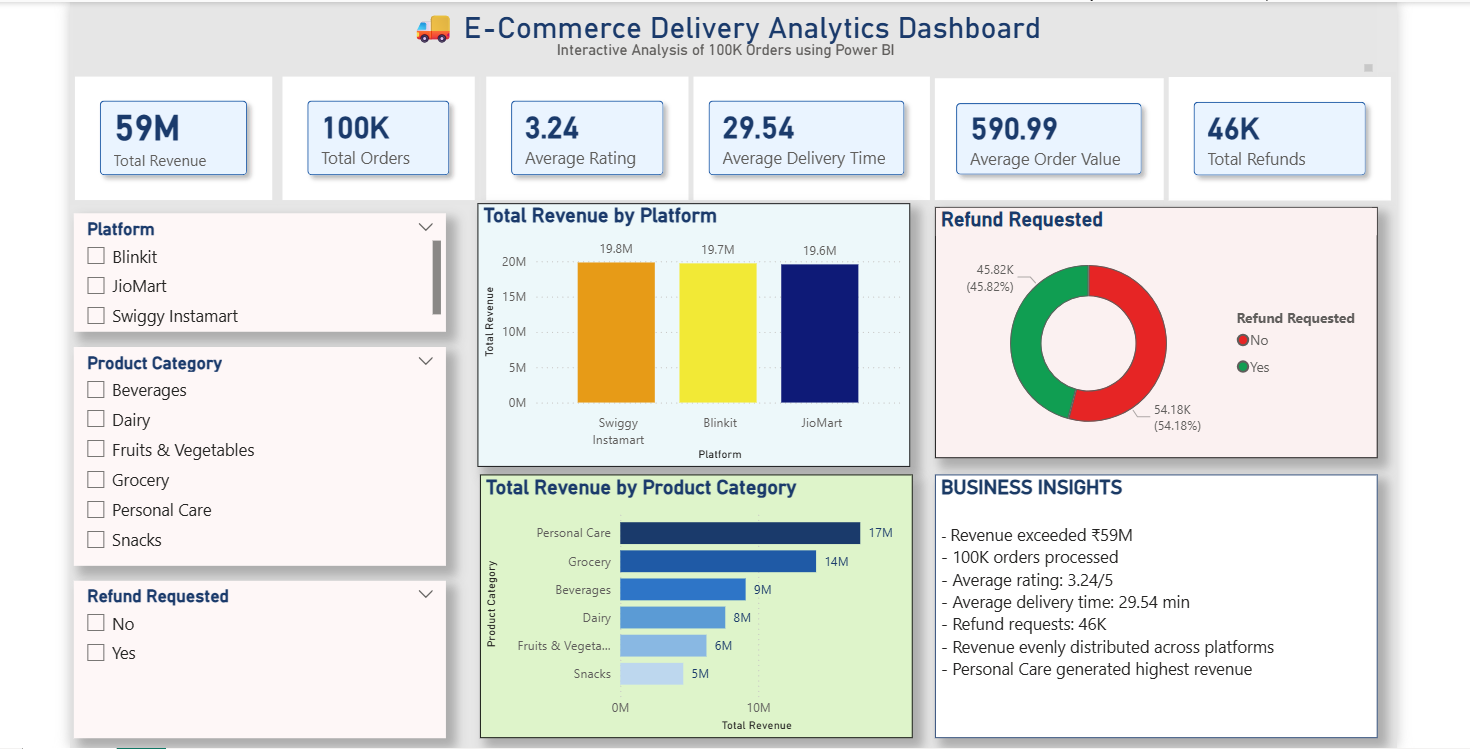

The page's visual inventory and layout, read from the dashboard file:
{"tool":"powerbi","page":{"name":"Page 1","canvas":[1280,720],"ordinal":0},"visuals":[{"type":"cardVisual","fields":{"Data":["Table1.Total Revenue"]},"box":[0,66.4,200.3,130.3],"z":0},{"type":"cardVisual","fields":{"Data":["Table1.Total Orders"]},"box":[200.3,66.4,195.4,130.3],"z":1000},{"type":"cardVisual","fields":{"Data":["Table1.Average Order Value"]},"box":[826.4,68.8,237.7,127.9],"z":2000},{"type":"cardVisual","fields":{"Data":["Table1.Average Delivery Time"]},"box":[587.5,66.4,247.3,130.3],"z":3000},{"type":"cardVisual","fields":{"Data":["Table1.Average Rating"]},"box":[396.9,66.4,205.1,130.3],"z":4000},{"type":"cardVisual","fields":{"Data":["Table1.Total Refunds"]},"box":[1055.6,67.6,224.4,129.1],"z":5000},{"type":"clusteredColumnChart","fields":{"Category":["Table1.Platform"],"Y":["Table1.Total Revenue"]},"box":[393.3,194.2,417.4,254.6],"z":6000},{"type":"donutChart","title":"Refund Requested","fields":{"Category":["Table1.Refund Requested"],"Y":["CountNonNull(Table1.Order ID)"]},"box":[834.9,197.9,427.1,242.5],"z":7000},{"type":"slicer","fields":{"Values":["Table1.Platform"]},"box":[3.6,203.9,359.5,114.6],"z":8000},{"type":"slicer","fields":{"Values":["Table1.Product Category"]},"box":[3.6,333,359.5,211.1],"z":9000},{"type":"slicer","fields":{"Values":["Table1.Refund Requested"]},"box":[3.6,558.6,359.5,152],"z":10000},{"type":"textbox","title":"🚚 E-Commerce Delivery Analytics Dashboard ","box":[3.6,0,1258.3,72.4],"z":11000},{"type":"clusteredBarChart","fields":{"Category":["Table1.Product Category"],"Y":["Table1.Total Revenue"]},"box":[395.7,456,417.4,254.6],"z":12000},{"type":"textbox","title":"   BUSINESS INSIGHTS","box":[834.9,456,427.1,254.6],"z":13000}]}

Visuals, with their boxes in screenshot pixels (x1, y1, x2, y2):
cardVisual - Table1.Total Revenue: pyautogui.locateOnScreen(73, 72, 279, 206)
cardVisual - Table1.Total Orders: pyautogui.locateOnScreen(279, 72, 479, 206)
cardVisual - Table1.Average Order Value: pyautogui.locateOnScreen(922, 75, 1166, 206)
cardVisual - Table1.Average Delivery Time: pyautogui.locateOnScreen(676, 72, 931, 206)
cardVisual - Table1.Average Rating: pyautogui.locateOnScreen(481, 72, 691, 206)
cardVisual - Table1.Total Refunds: pyautogui.locateOnScreen(1158, 73, 1388, 206)
clusteredColumnChart - Table1.Platform x Table1.Total Revenue: pyautogui.locateOnScreen(477, 203, 906, 465)
"Refund Requested" donutChart: pyautogui.locateOnScreen(931, 207, 1370, 456)
slicer - Table1.Platform: pyautogui.locateOnScreen(76, 213, 446, 331)
slicer - Table1.Product Category: pyautogui.locateOnScreen(76, 346, 446, 563)
slicer - Table1.Refund Requested: pyautogui.locateOnScreen(76, 578, 446, 734)
"🚚 E-Commerce Delivery Analytics Dashboard " textbox: pyautogui.locateOnScreen(76, 4, 1370, 78)
clusteredBarChart - Table1.Product Category x Table1.Total Revenue: pyautogui.locateOnScreen(479, 472, 908, 734)
"   BUSINESS INSIGHTS" textbox: pyautogui.locateOnScreen(931, 472, 1370, 734)
